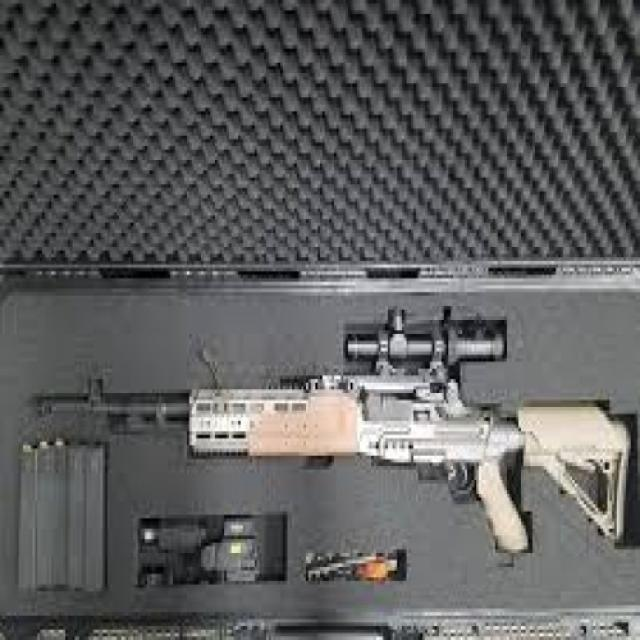Gun: (15, 298, 640, 578)
